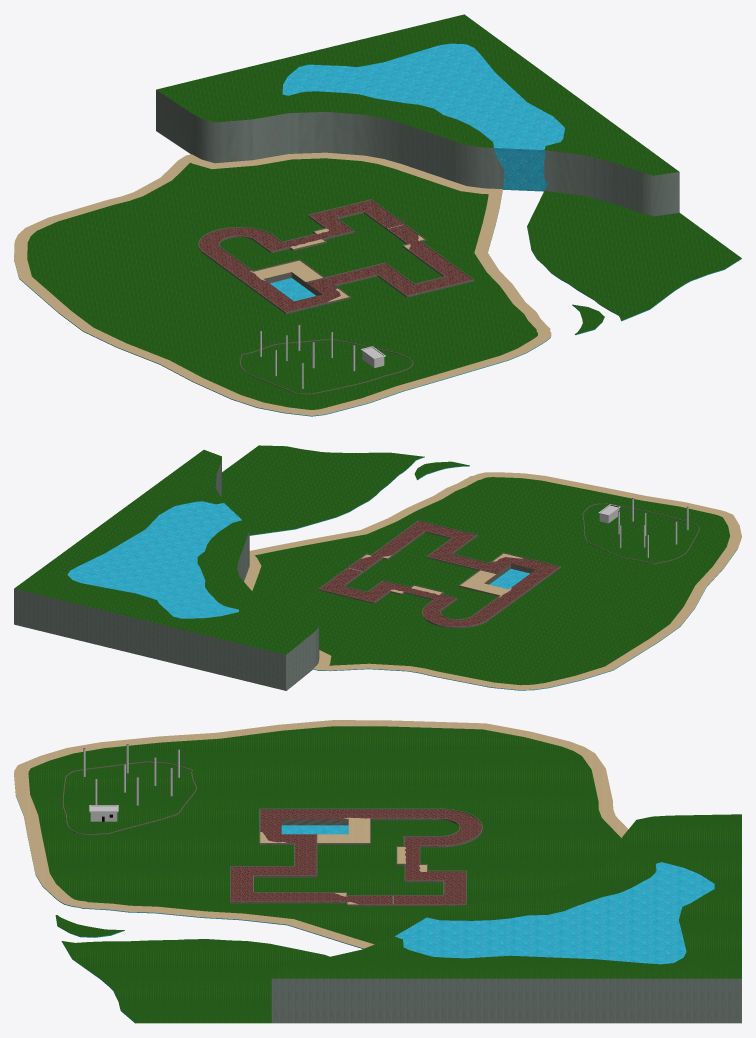
The picture shows the model from 3 angles, top to bottom: view 1: azimuth 30°, elevation 25°; view 2: azimuth 150°, elevation 25°; view 3: azimuth 270°, elevation 25°; orthographic projection. The views are drawn at different scales.
Visible parts, largest first — view 1: course_model1_Main-Matire5.001, course_model1_Main-Matire4.001, course_model1_Main-Eau_en_mouvement.001, course_model1_Main-Matire7.001, course_model1_Main-Matire6.001, course_model1_Main-Matire1.001, course_model1_Main-Matire2.001, course_model1_Main-Revtement_bardage_blanc.001; view 2: course_model1_Main-Matire5.001, course_model1_Main-Matire4.001, course_model1_Main-Eau_en_mouvement.001, course_model1_Main-Matire7.001, course_model1_Main-Matire6.001, course_model1_Main-Matire1.001, course_model1_Main-Matire2.001, course_model1_Main-Revtement_bardage_blanc.001; view 3: course_model1_Main-Matire5.001, course_model1_Main-Matire4.001, course_model1_Main-Eau_en_mouvement.001, course_model1_Main-Matire7.001, course_model1_Main-Matire6.001, course_model1_Main-Matire1.001, course_model1_Main-Matire2.001, course_model1_Main-Revtement_bardage_blanc.001.
Boxes of the visible parts, bbox=[...] form: course_model1_Main-Matire5.001: bbox=[27, 14, 741, 409]; course_model1_Main-Matire4.001: bbox=[156, 90, 679, 216]; course_model1_Main-Eau_en_mouvement.001: bbox=[14, 43, 741, 416]; course_model1_Main-Matire7.001: bbox=[14, 152, 551, 415]; course_model1_Main-Matire6.001: bbox=[199, 200, 472, 312]; course_model1_Main-Matire1.001: bbox=[198, 200, 474, 394]; course_model1_Main-Matire2.001: bbox=[198, 199, 473, 312]; course_model1_Main-Revtement_bardage_blanc.001: bbox=[260, 325, 385, 388]; course_model1_Main-Matire5.001: bbox=[14, 445, 729, 685]; course_model1_Main-Matire4.001: bbox=[14, 458, 319, 690]; course_model1_Main-Eau_en_mouvement.001: bbox=[67, 457, 741, 690]; course_model1_Main-Matire7.001: bbox=[244, 472, 741, 689]; course_model1_Main-Matire6.001: bbox=[320, 521, 558, 626]; course_model1_Main-Matire1.001: bbox=[318, 503, 700, 628]; course_model1_Main-Matire2.001: bbox=[318, 520, 560, 626]; course_model1_Main-Revtement_bardage_blanc.001: bbox=[598, 498, 688, 557]; course_model1_Main-Matire5.001: bbox=[28, 726, 741, 1023]; course_model1_Main-Matire4.001: bbox=[271, 978, 741, 1023]; course_model1_Main-Eau_en_mouvement.001: bbox=[14, 776, 714, 1023]; course_model1_Main-Matire7.001: bbox=[14, 720, 628, 948]; course_model1_Main-Matire6.001: bbox=[231, 809, 482, 904]; course_model1_Main-Matire1.001: bbox=[62, 761, 482, 906]; course_model1_Main-Matire2.001: bbox=[230, 808, 482, 904]; course_model1_Main-Revtement_bardage_blanc.001: bbox=[83, 745, 179, 821].
Bounding box in the file's own units: 138414 × 10612 × 140469.
11 materials, 11 textured.
